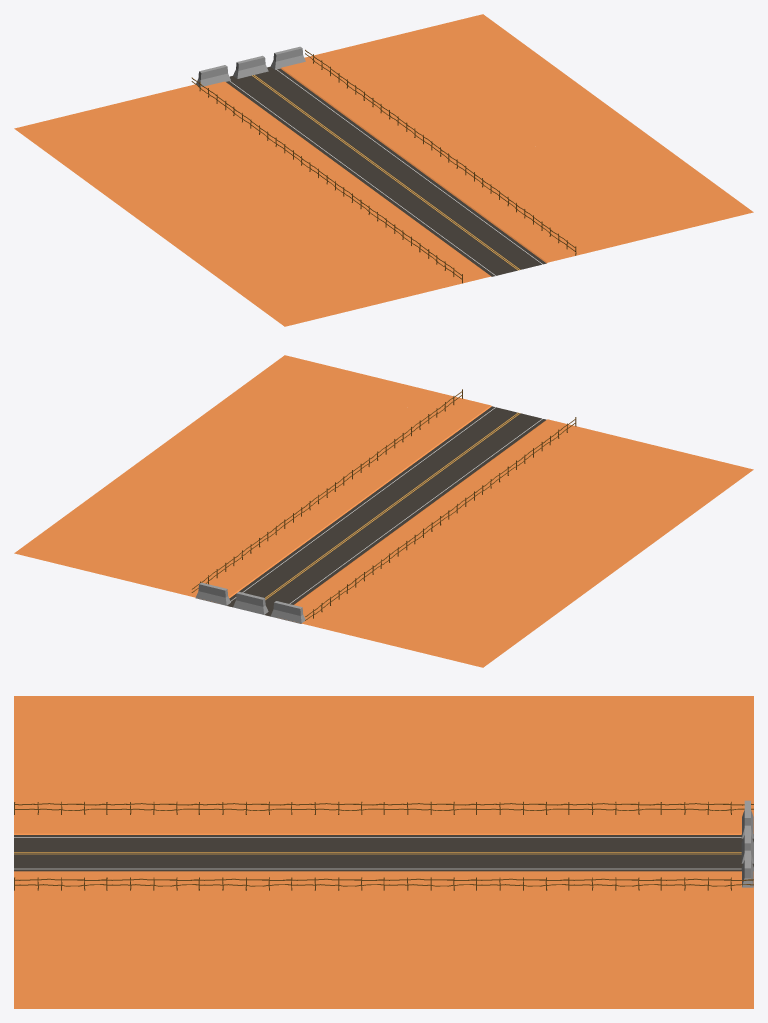
Rendered from DesertRoadBehind.fbx.
3 renders of one model, top to bottom at view 1: azimuth 30°, elevation 25°; view 2: azimuth 150°, elevation 25°; view 3: azimuth 270°, elevation 25°, orthographic. The views are drawn at different scales.
Parts seen in each view (by area): view 1: DRBRoad, DRBConcreteFence, DRBWoodFenceRight, DRBWoodFenceLeft; view 2: DRBRoad, DRBConcreteFence, DRBWoodFenceLeft, DRBWoodFenceRight; view 3: DRBRoad, DRBWoodFenceRight, DRBWoodFenceLeft, DRBConcreteFence.
Boxes of the visible parts, x1,y1,x2,y2 form: DRBRoad: [14, 14, 753, 326]; DRBConcreteFence: [196, 46, 305, 86]; DRBWoodFenceRight: [305, 49, 576, 255]; DRBWoodFenceLeft: [191, 77, 462, 283]; DRBRoad: [14, 355, 753, 667]; DRBConcreteFence: [195, 582, 305, 623]; DRBWoodFenceLeft: [305, 417, 576, 620]; DRBWoodFenceRight: [191, 389, 462, 592]; DRBRoad: [14, 696, 753, 1008]; DRBWoodFenceRight: [14, 877, 753, 890]; DRBWoodFenceLeft: [14, 801, 753, 814]; DRBConcreteFence: [741, 800, 753, 887].
Size of what is drawn, in the model's own units: 12000 by 339 by 12000.
